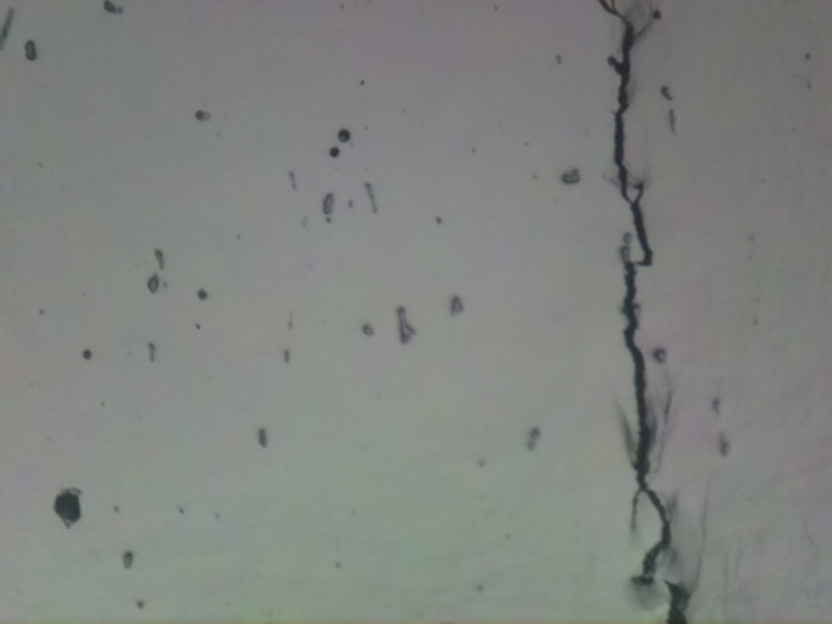crack: (602, 0, 673, 585), (662, 576, 692, 624)
